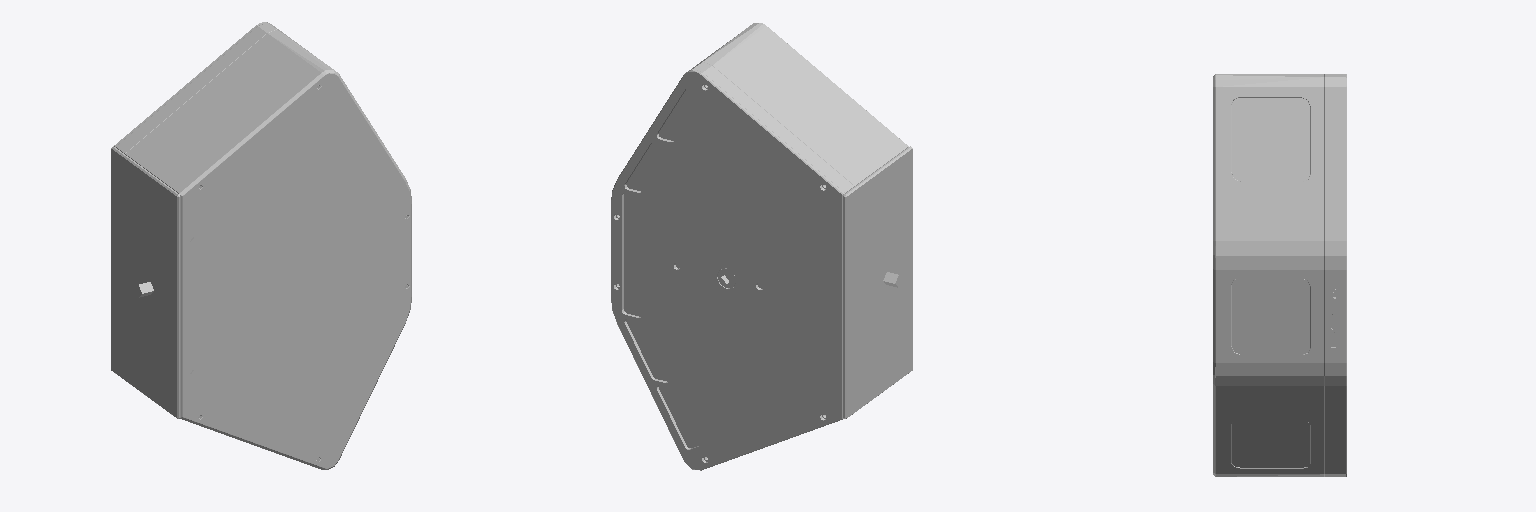
The model's file is mid100.obj.
The picture shows the model from 3 angles: view 1: azimuth 30°, elevation 25°; view 2: azimuth 150°, elevation 25°; view 3: azimuth 270°, elevation 25°; orthographic projection.
Parts seen in each view (by area): view 1: 1; view 2: 1; view 3: 1, 30, 32, 24, 20, 2, 4.
Part boxes in pixels (left/top/right/bottom): 1: left=111, top=22, right=411, bottom=469; 1: left=611, top=23, right=912, bottom=470; 1: left=1213, top=74, right=1346, bottom=476; 30: left=1232, top=108, right=1309, bottom=179; 32: left=1232, top=100, right=1309, bottom=170; 24: left=1232, top=287, right=1309, bottom=351; 20: left=1232, top=280, right=1308, bottom=344; 2: left=1232, top=425, right=1309, bottom=466; 4: left=1232, top=421, right=1309, bottom=461.
Bounding box in the file's own units: 149 × 230 × 70.